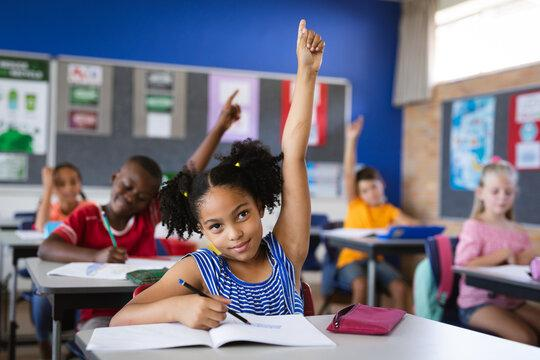study: (101, 17, 323, 354), (43, 82, 247, 264), (342, 116, 421, 237)
